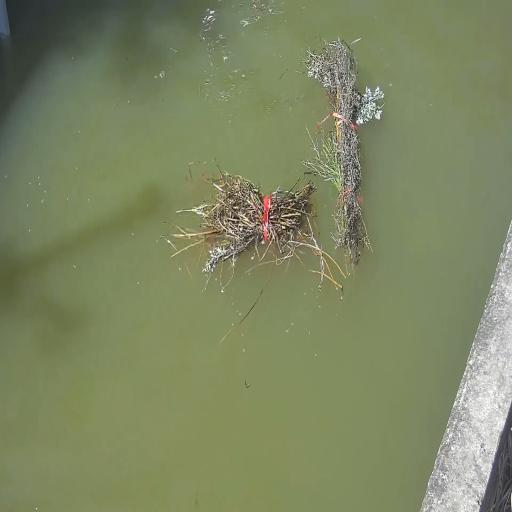twig: (306, 27, 384, 262), (195, 163, 326, 292)
